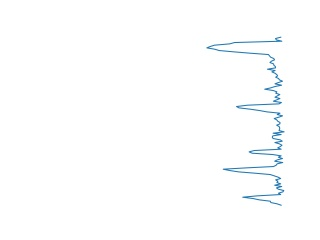distalBar: (204, 35, 287, 95)
interdistributaryEstuary: (233, 94, 289, 145)
underwaterNaturalLevee: (222, 146, 290, 209)
